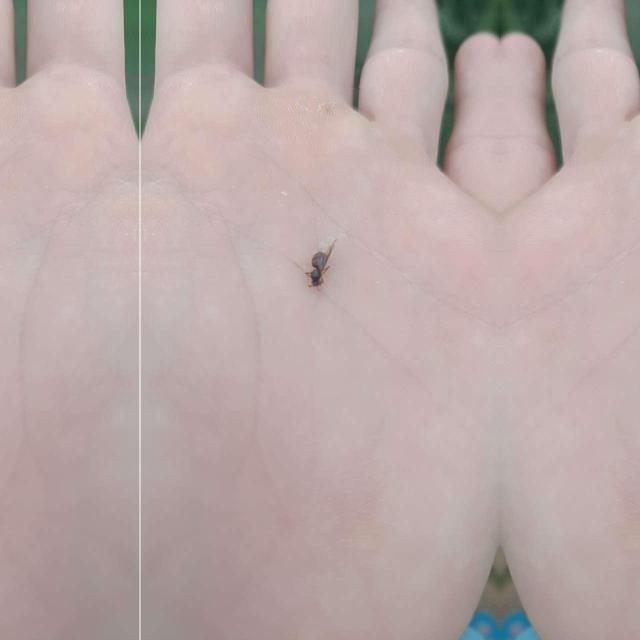Lasius: (303, 229, 339, 289)
